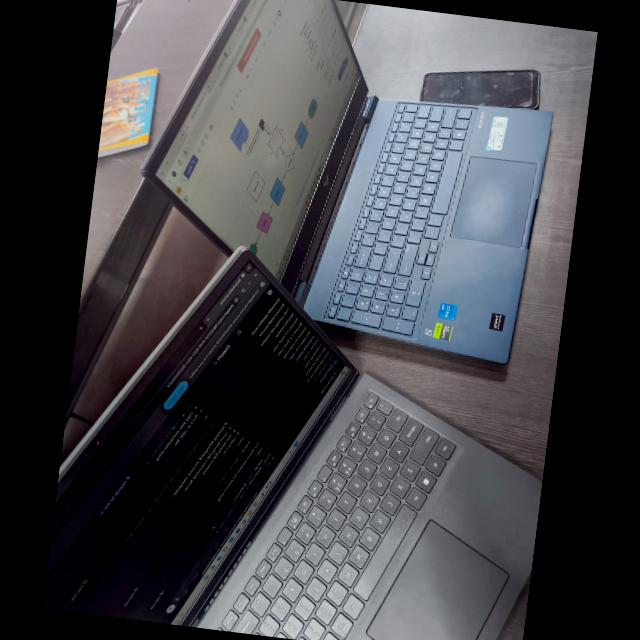laptop: (50, 250, 555, 640), (96, 88, 578, 374)
